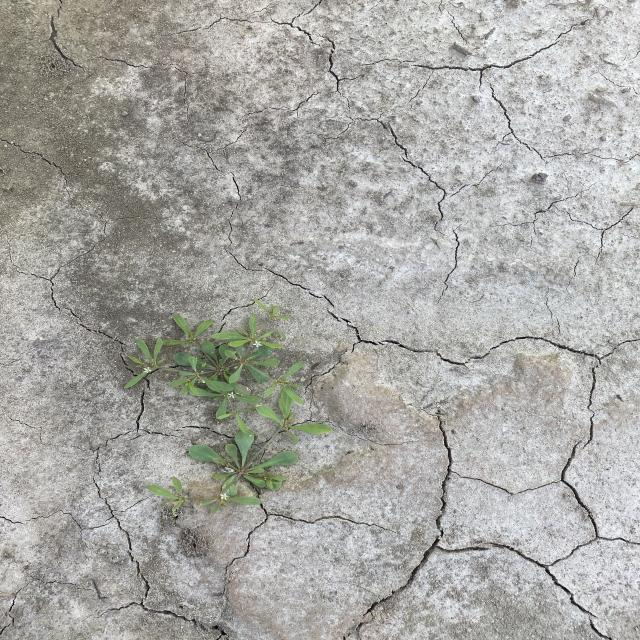Carpetweed: (120, 296, 335, 518)
